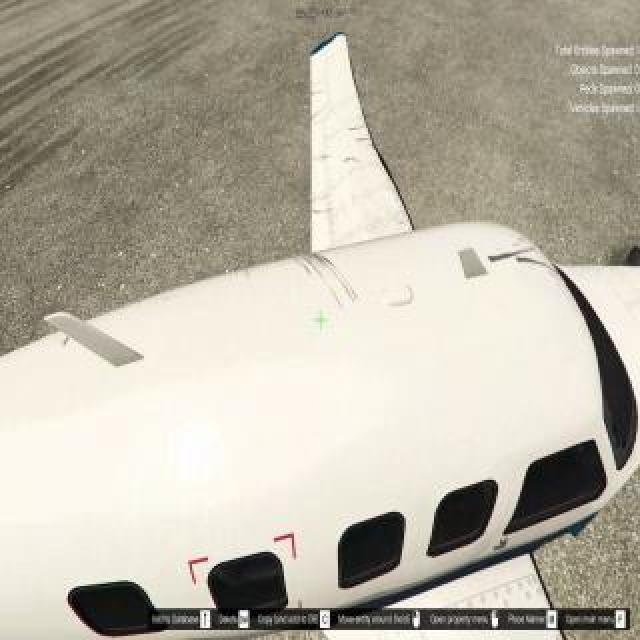dent: (490, 253, 522, 265), (518, 258, 544, 272), (304, 254, 332, 266), (313, 207, 335, 219), (345, 155, 363, 167), (312, 85, 326, 97), (313, 155, 333, 163), (348, 124, 368, 132), (358, 135, 370, 145)
